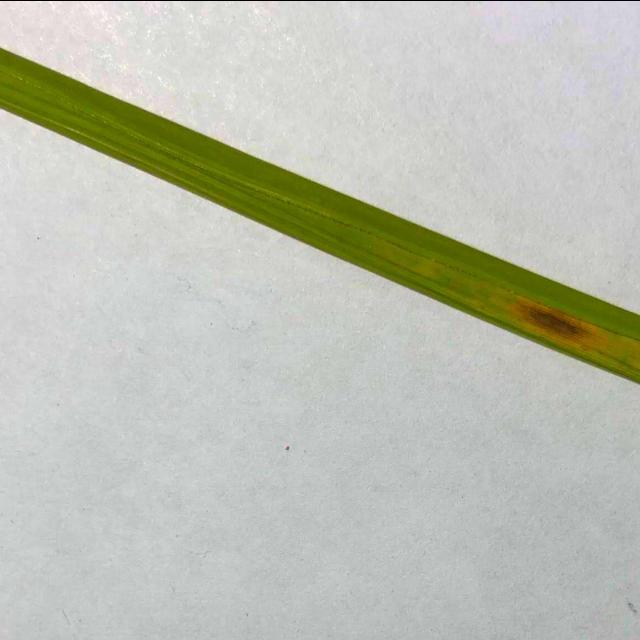Brown spot: (0, 29, 640, 452)
